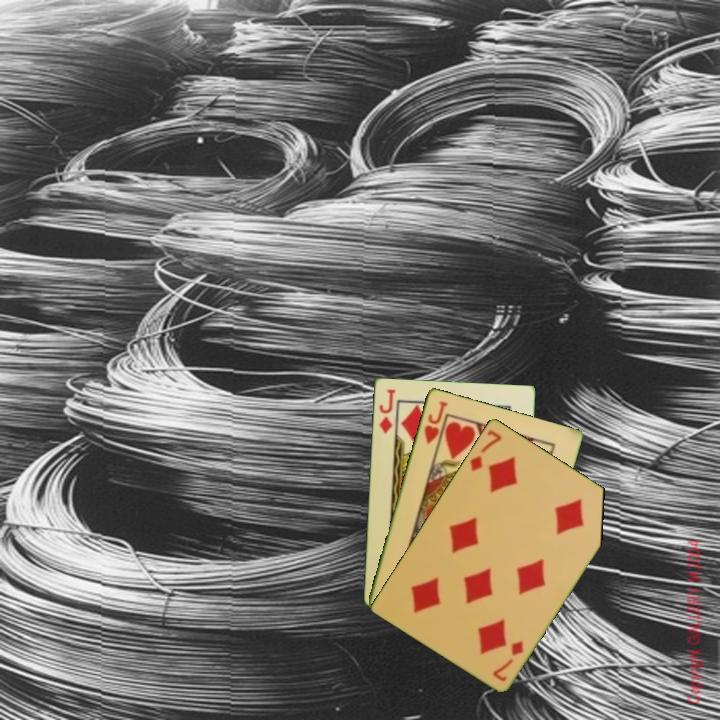7d: (466, 425, 505, 474), (489, 636, 526, 684)
Jd: (375, 385, 398, 436)
Jh: (420, 397, 450, 447)
